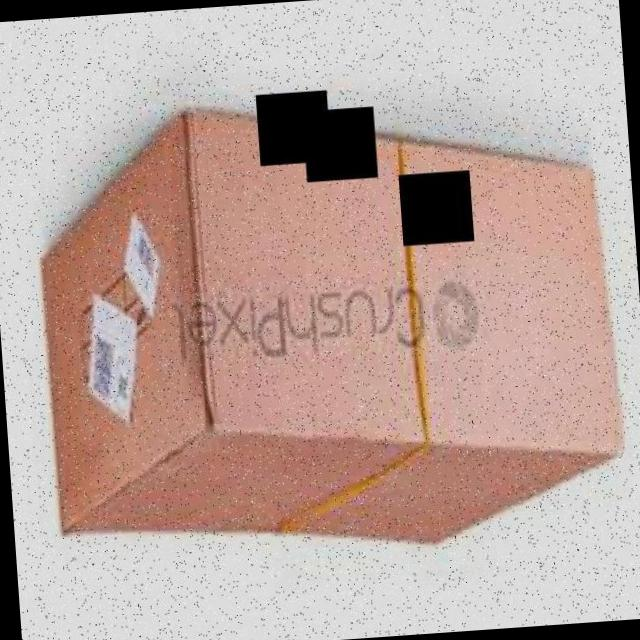box: (20, 71, 637, 574)
